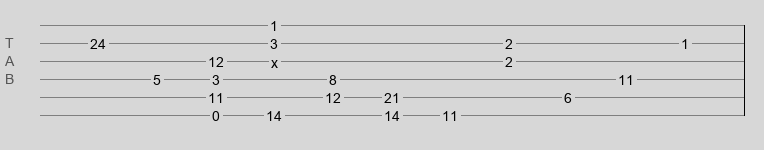0: (212, 108, 220, 118)
1: (270, 18, 278, 28), (681, 36, 689, 46)
11: (208, 90, 224, 100), (442, 108, 458, 118), (618, 72, 634, 82)
12: (208, 54, 224, 64), (325, 90, 341, 100)
14: (266, 108, 282, 118), (384, 108, 400, 118)
2: (505, 54, 513, 64), (505, 36, 513, 46)
21: (384, 90, 400, 100)
24: (90, 36, 106, 46)
3: (212, 72, 220, 82), (270, 36, 278, 46)
5: (153, 72, 161, 82)
6: (564, 90, 572, 100)
8: (329, 72, 337, 82)
x: (271, 55, 278, 63)
